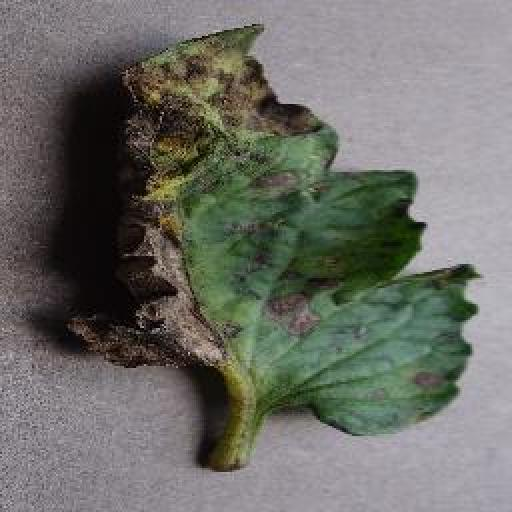Early Blight: (61, 20, 480, 436)
